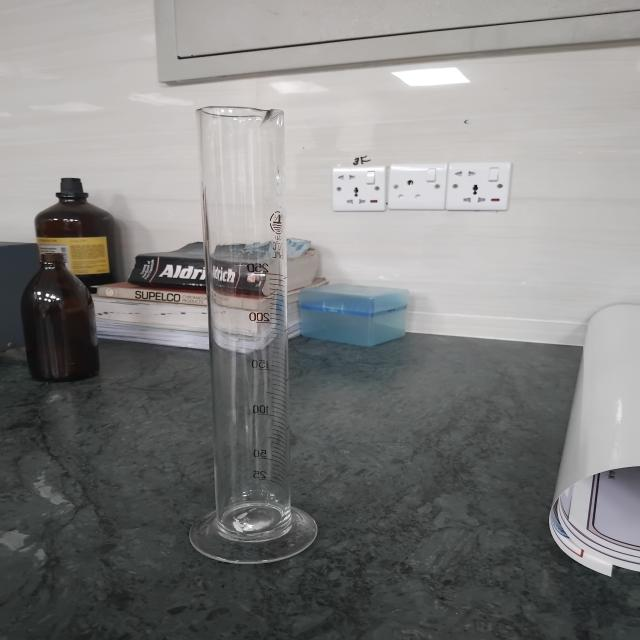Measuring_Cylinder: (154, 71, 368, 606)
